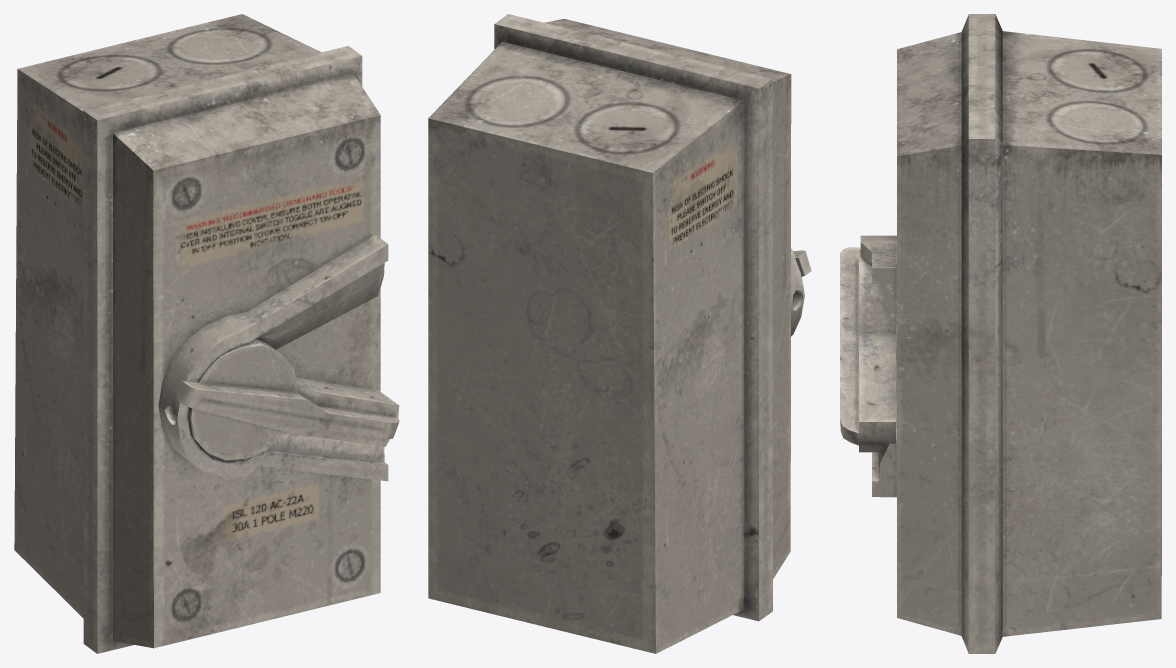
File: ElectricSwitch_02a_snaps011.fbx
3 renders of one model, left to right at view 1: azimuth 30°, elevation 25°; view 2: azimuth 150°, elevation 25°; view 3: azimuth 270°, elevation 25°, orthographic. The views are drawn at different scales.
Visible parts, largest first — view 1: ElectricSwitch_02a_snaps011_LOD0; view 2: ElectricSwitch_02a_snaps011_LOD0; view 3: ElectricSwitch_02a_snaps011_LOD0.
Part boxes in pixels (<box>): ElectricSwitch_02a_snaps011_LOD0: <box>14,14,399,653</box>; ElectricSwitch_02a_snaps011_LOD0: <box>428,14,811,653</box>; ElectricSwitch_02a_snaps011_LOD0: <box>840,14,1161,653</box>.
Size of what is drawn, in the model's own units: 8.99 by 17.29 by 9.79.
